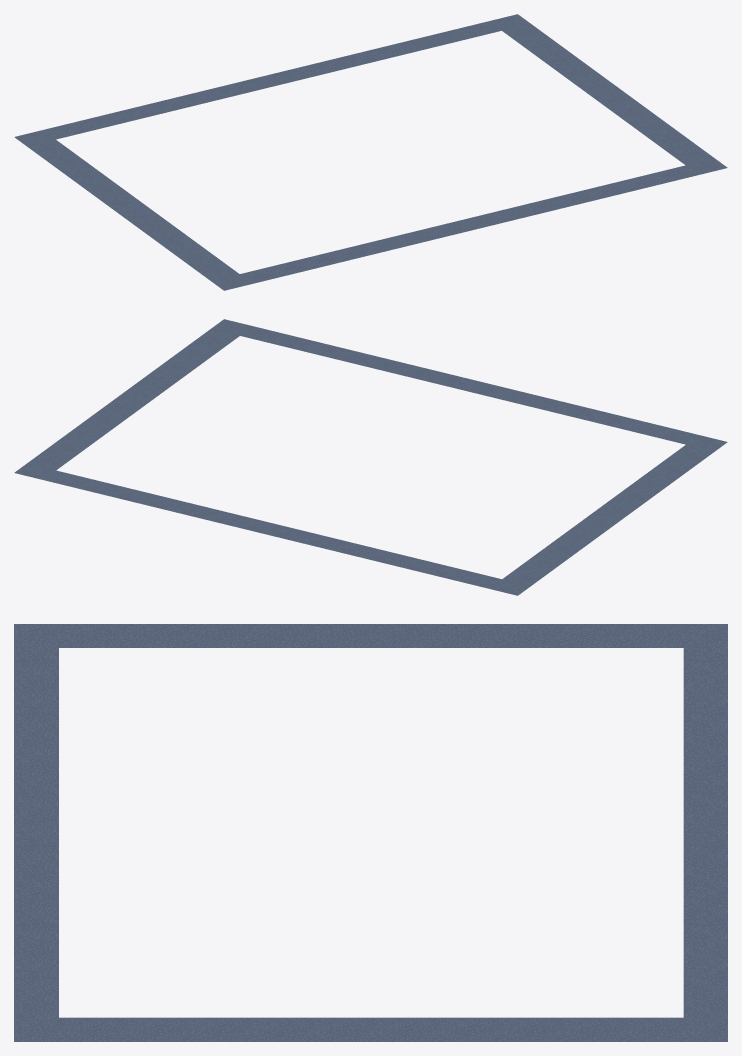
File: kd_stage_135ded_4_43_bounded.glb
The picture shows the model from 3 angles, top to bottom: view 1: azimuth 30°, elevation 25°; view 2: azimuth 150°, elevation 25°; view 3: azimuth 270°, elevation 25°; orthographic projection. The views are drawn at different scales.
Visible parts, largest first — view 1: kd_stage_135ded_4_43_bounded; view 2: kd_stage_135ded_4_43_bounded; view 3: kd_stage_135ded_4_43_bounded.
Boxes of the visible parts, x1,y1,x2,y2 form: kd_stage_135ded_4_43_bounded: (14, 14, 727, 290); kd_stage_135ded_4_43_bounded: (14, 319, 727, 595); kd_stage_135ded_4_43_bounded: (14, 624, 727, 1041).
Bounding box in the file's own units: 3.97 × 0.000153 × 2.87.
1 material, 1 textured.
